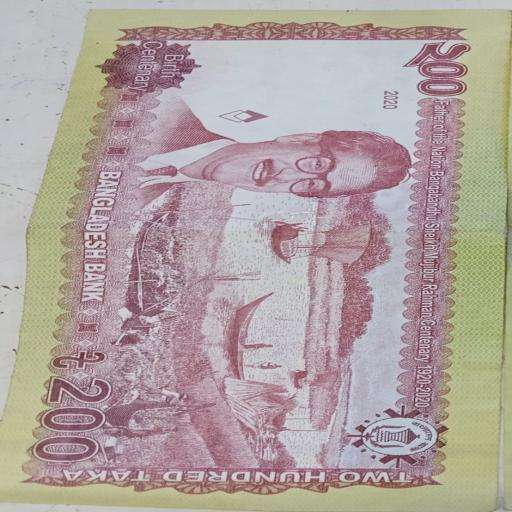200taka: (0, 10, 511, 512)
